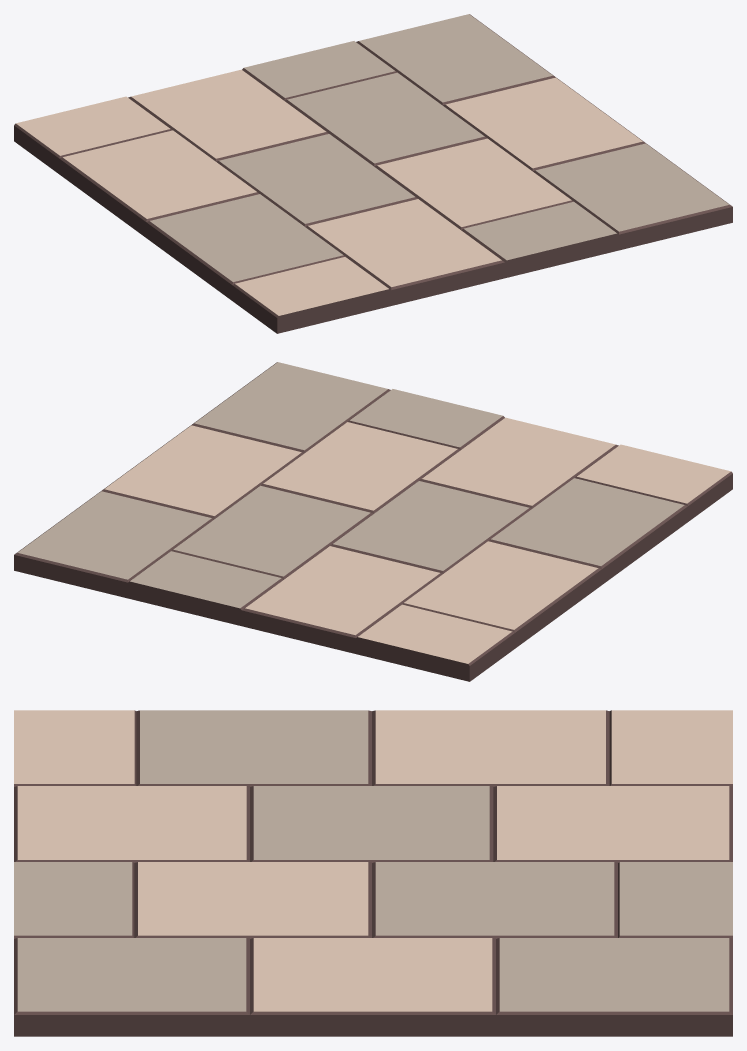
File: greek_floor_stone_1.fbx
3 views of the same model, one above another, from view 1: azimuth 30°, elevation 25°; view 2: azimuth 150°, elevation 25°; view 3: azimuth 270°, elevation 25° (orthographic). The views are drawn at different scales.
Visible parts, largest first — view 1: Cube.005; view 2: Cube.005; view 3: Cube.005.
Part boxes in pixels (x1=…): Cube.005: x1=14, y1=14, x2=732, y2=333; Cube.005: x1=14, y1=362, x2=732, y2=681; Cube.005: x1=14, y1=710, x2=732, y2=1036.
Size of the model in its own units: 300 by 11 by 300.
